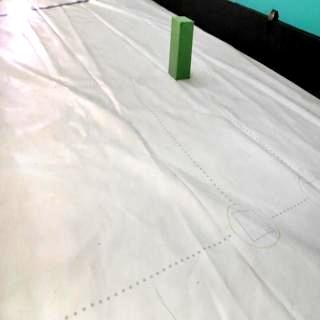greenbox: (166, 15, 196, 80)
